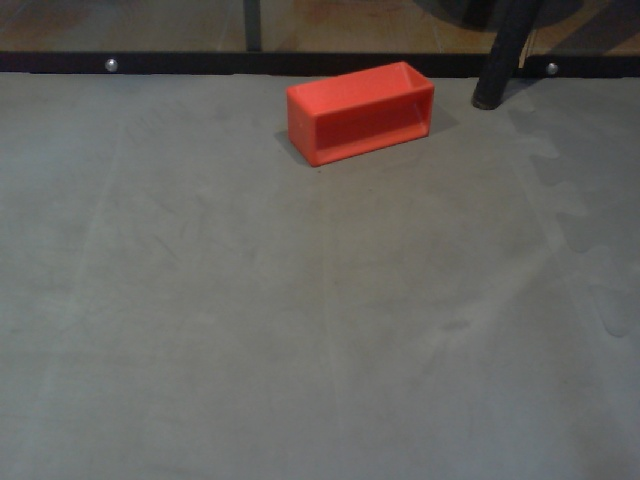RedSample: (282, 60, 435, 168)
